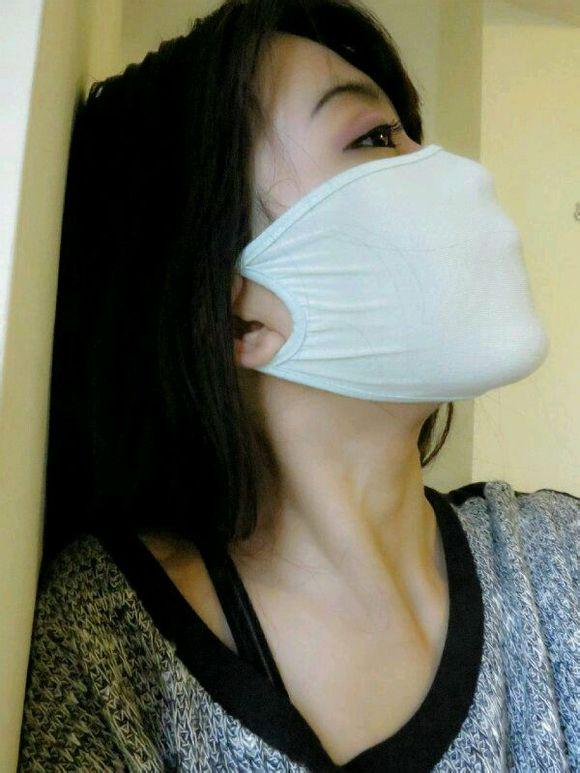OK: (239, 97, 542, 409)
